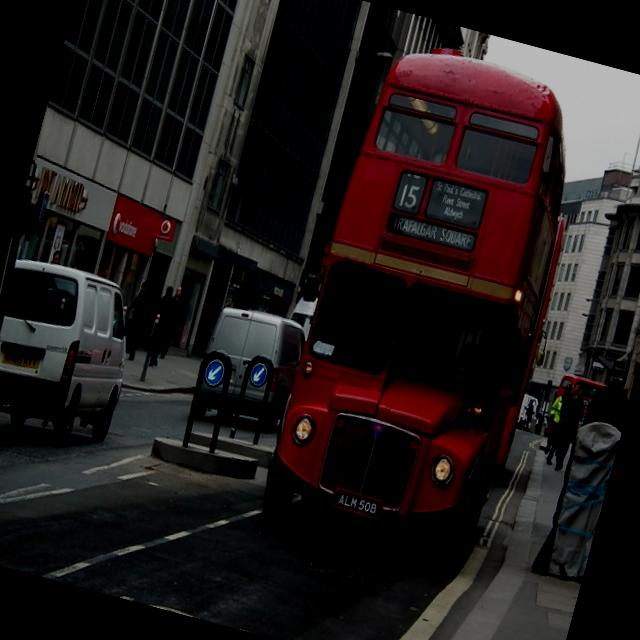Vehicle: (258, 32, 599, 576), (0, 253, 151, 462), (0, 252, 148, 458), (0, 87, 66, 439), (188, 298, 310, 442), (543, 370, 610, 450)
